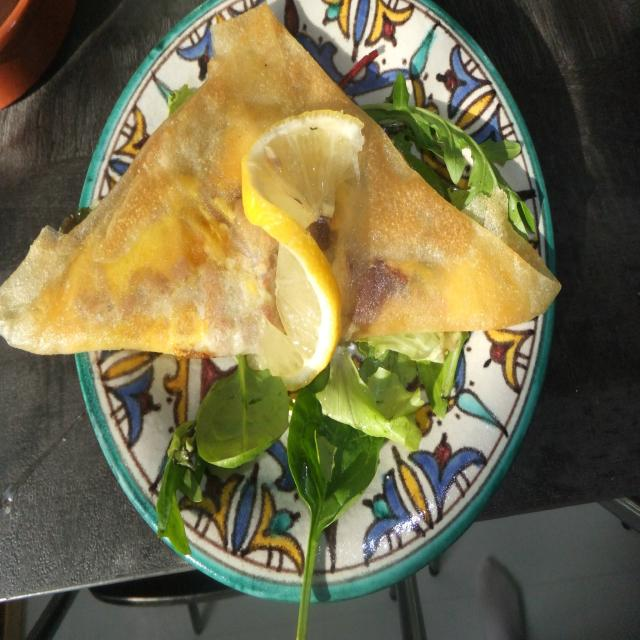brik: (16, 18, 583, 372)
